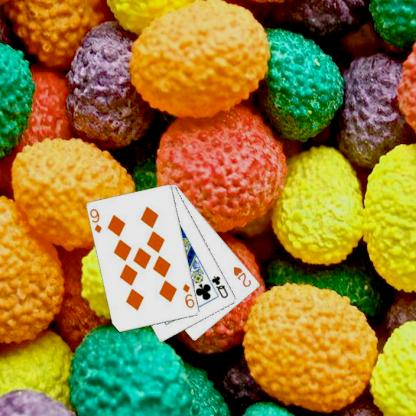2H: (230, 264, 253, 288)
9D: (180, 281, 196, 310), (88, 206, 103, 235)
QC: (209, 273, 230, 300)
